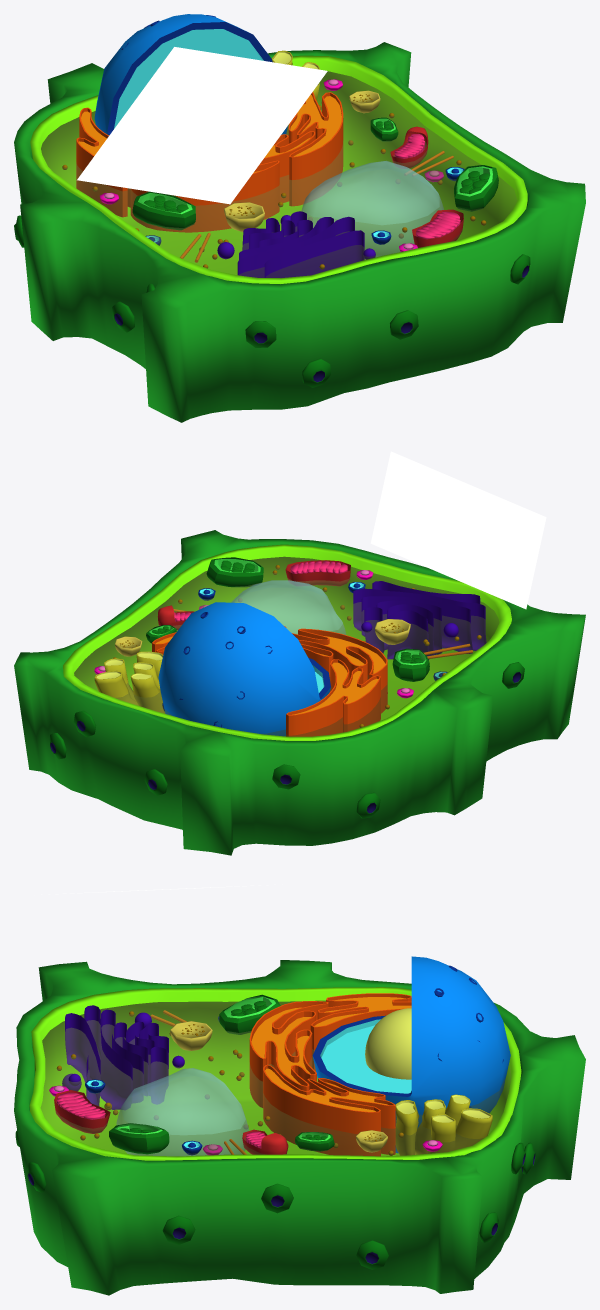
The picture shows the model from 3 angles, top to bottom: view 1: azimuth 30°, elevation 25°; view 2: azimuth 150°, elevation 25°; view 3: azimuth 270°, elevation 25°; orthographic projection. The views are drawn at different scales.
Parts seen in each view (by area): view 1: Cell Membrane, Cytoplasm, light, Rough Endoplasmic Reticulum, Vacuole, Nucleus, Golgi Apparatus, 2., Plasmodesmata, Lysosome, 2. vn, 1.ob (+4 smaller); view 2: Cell Membrane, Cytoplasm, Nucleus, light, Rough Endoplasmic Reticulum, Golgi Apparatus, Vacuole, Smooth Endoplasmic Reticulum, Plasmodesmata, 2., 1.ob, Lysosome (+2 smaller); view 3: Cell Membrane, Cytoplasm, Nucleus, Rough Endoplasmic Reticulum, Golgi Apparatus, Vacuole, Smooth Endoplasmic Reticulum, Plasmodesmata, 2., Nucleolus, 1.ob, Lysosome (+3 smaller).
Boxes of the visible parts, <box> form: Cell Membrane: <box>14,42,585,422</box>; Cytoplasm: <box>30,55,527,283</box>; light: <box>77,47,327,204</box>; Rough Endoplasmic Reticulum: <box>76,92,343,232</box>; Vacuole: <box>301,160,443,256</box>; Nucleus: <box>94,14,287,135</box>; Golgi Apparatus: <box>217,211,375,277</box>; 2.: <box>132,117,498,230</box>; Plasmodesmata: <box>14,215,530,387</box>; Lysosome: <box>224,90,380,231</box>; 2. vn: <box>394,134,460,239</box>; 1.ob: <box>390,126,463,247</box>; Cell Membrane: <box>14,530,585,855</box>; Cytoplasm: <box>63,544,511,740</box>; Nucleus: <box>158,602,330,736</box>; light: <box>370,451,546,609</box>; Rough Endoplasmic Reticulum: <box>152,626,387,736</box>; Golgi Apparatus: <box>353,581,486,659</box>; Vacuole: <box>231,580,345,634</box>; Smooth Endoplasmic Reticulum: <box>94,651,165,713</box>; Plasmodesmata: <box>49,662,524,818</box>; 2.: <box>146,557,429,681</box>; 1.ob: <box>157,560,350,630</box>; Lysosome: <box>115,619,410,656</box>; Cell Membrane: <box>14,960,585,1295</box>; Cytoplasm: <box>29,987,521,1160</box>; Nucleus: <box>312,956,510,1153</box>; Rough Endoplasmic Reticulum: <box>249,993,411,1156</box>; Golgi Apparatus: <box>62,1005,184,1109</box>; Vacuole: <box>116,1068,248,1155</box>; Smooth Endoplasmic Reticulum: <box>395,1094,492,1155</box>; Plasmodesmata: <box>15,1130,535,1269</box>; 2.: <box>109,994,334,1154</box>; Nucleolus: <box>365,1008,411,1079</box>; 1.ob: <box>54,1090,288,1154</box>; Lysosome: <box>170,1021,387,1152</box>.
Size of what is drawn, in the model's own units: 7.74 by 4.97 by 8.42.
